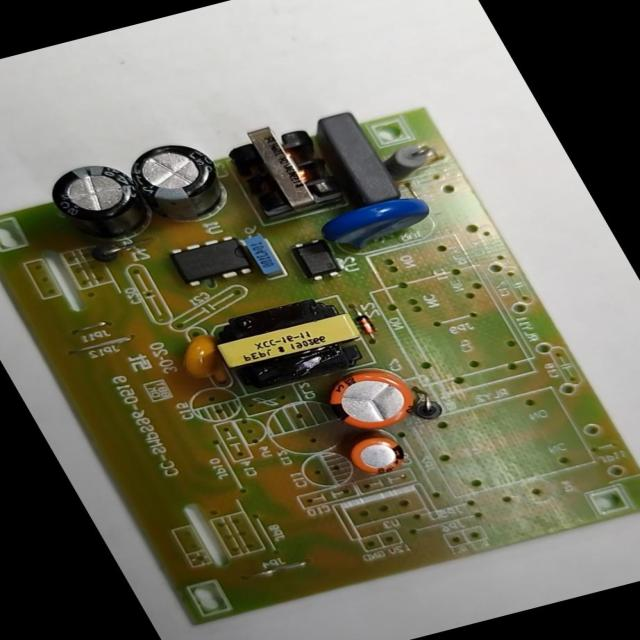Cap1: (303, 355, 438, 443)
Cap2: (331, 425, 422, 483)
Cap3: (111, 130, 253, 236)
Cap4: (27, 154, 174, 264)
MOSFET: (155, 226, 264, 293)
Mov: (304, 187, 448, 260)
Resistor: (370, 138, 449, 190)
Transformer: (187, 285, 387, 405), (210, 113, 360, 229)
